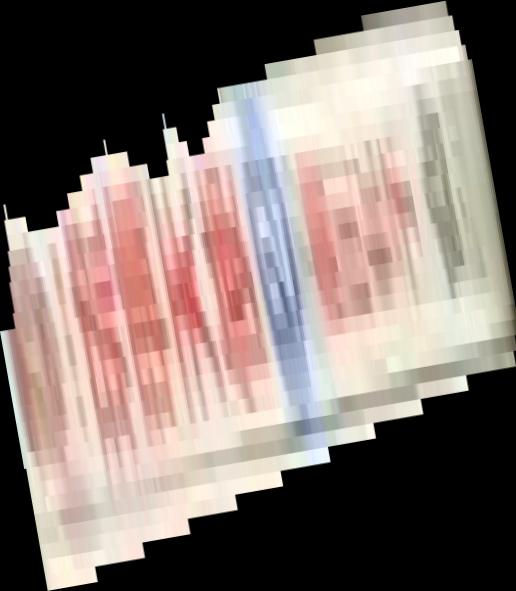flat: (1, 1, 516, 591)
